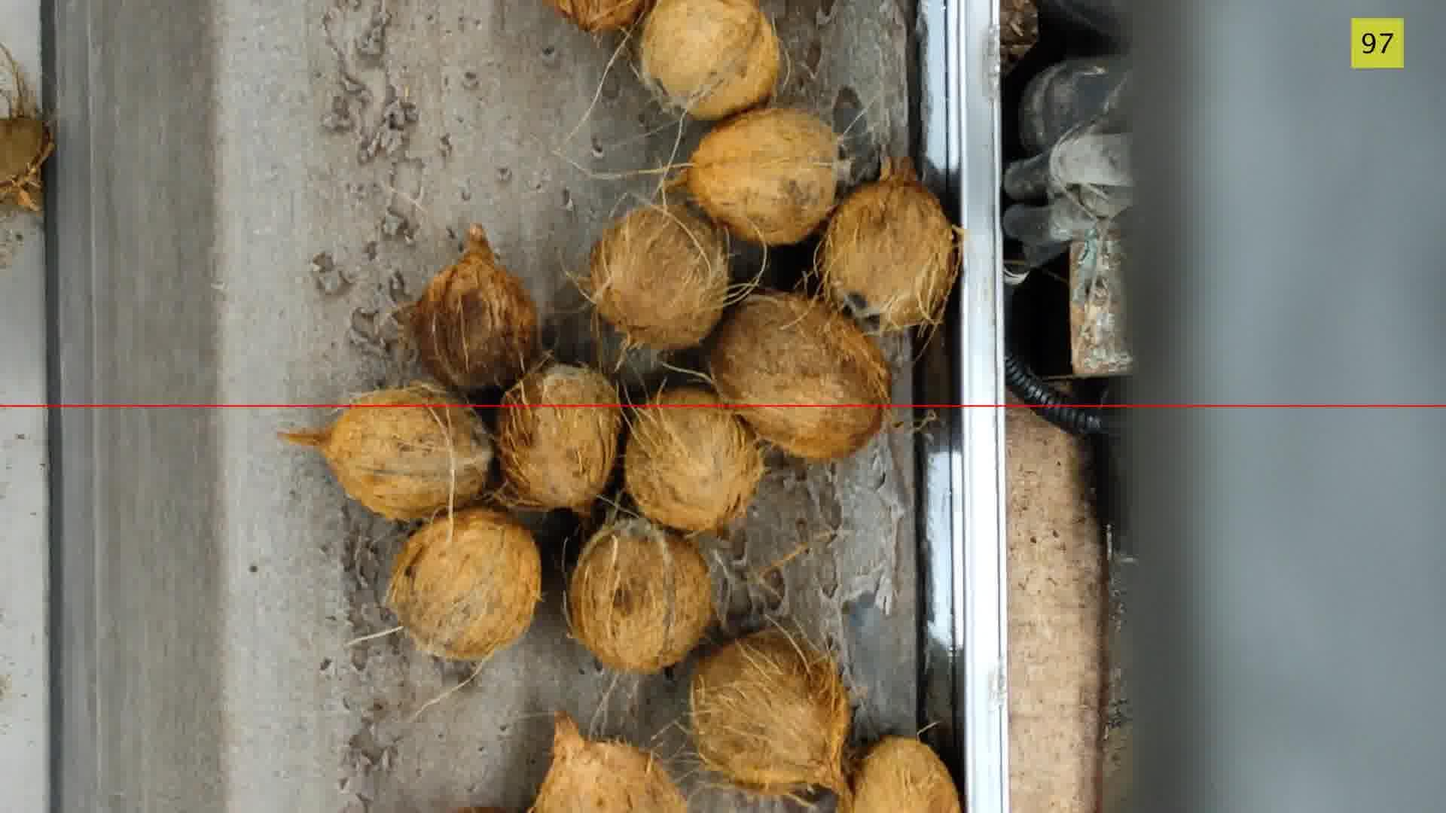Coconut: (709, 293, 890, 459), (281, 385, 493, 519), (690, 631, 850, 800), (819, 159, 958, 330), (386, 507, 540, 660), (566, 519, 713, 674), (407, 224, 538, 388), (685, 108, 838, 245), (584, 205, 729, 349), (624, 386, 763, 532), (496, 364, 622, 513), (640, 0, 780, 118), (532, 712, 686, 812), (0, 46, 53, 210), (853, 736, 961, 812), (545, 0, 647, 32)
